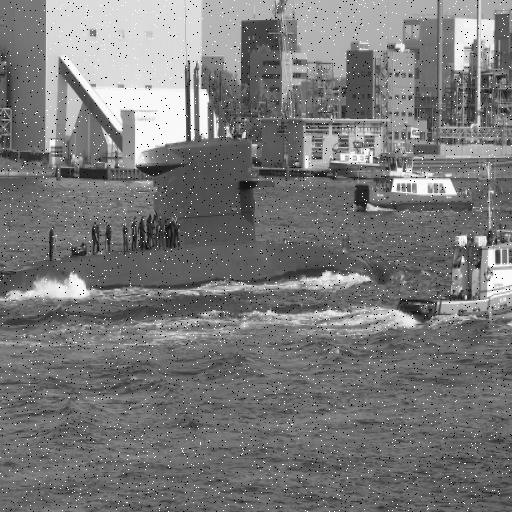submarine: (1, 58, 373, 299)
